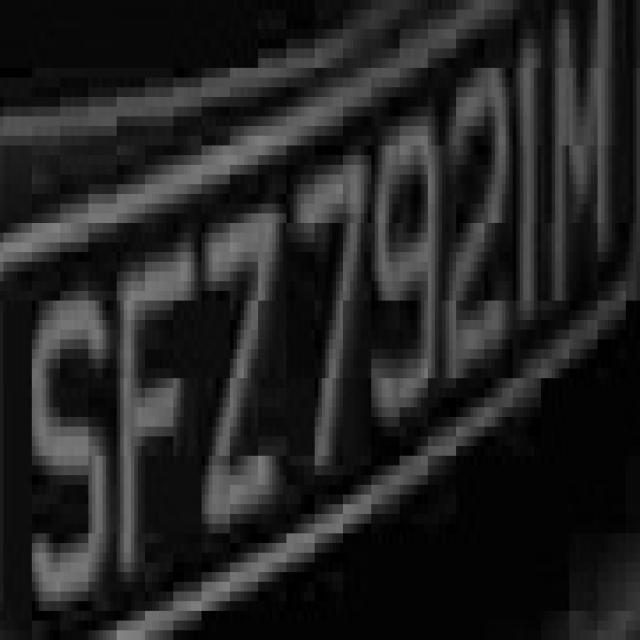1: (512, 39, 544, 359)
2: (439, 48, 509, 388)
7: (293, 146, 368, 524)
9: (368, 107, 446, 446)
F: (106, 233, 198, 611)
M: (544, 39, 622, 320)
S: (25, 282, 106, 630)
Z: (191, 185, 293, 562)
